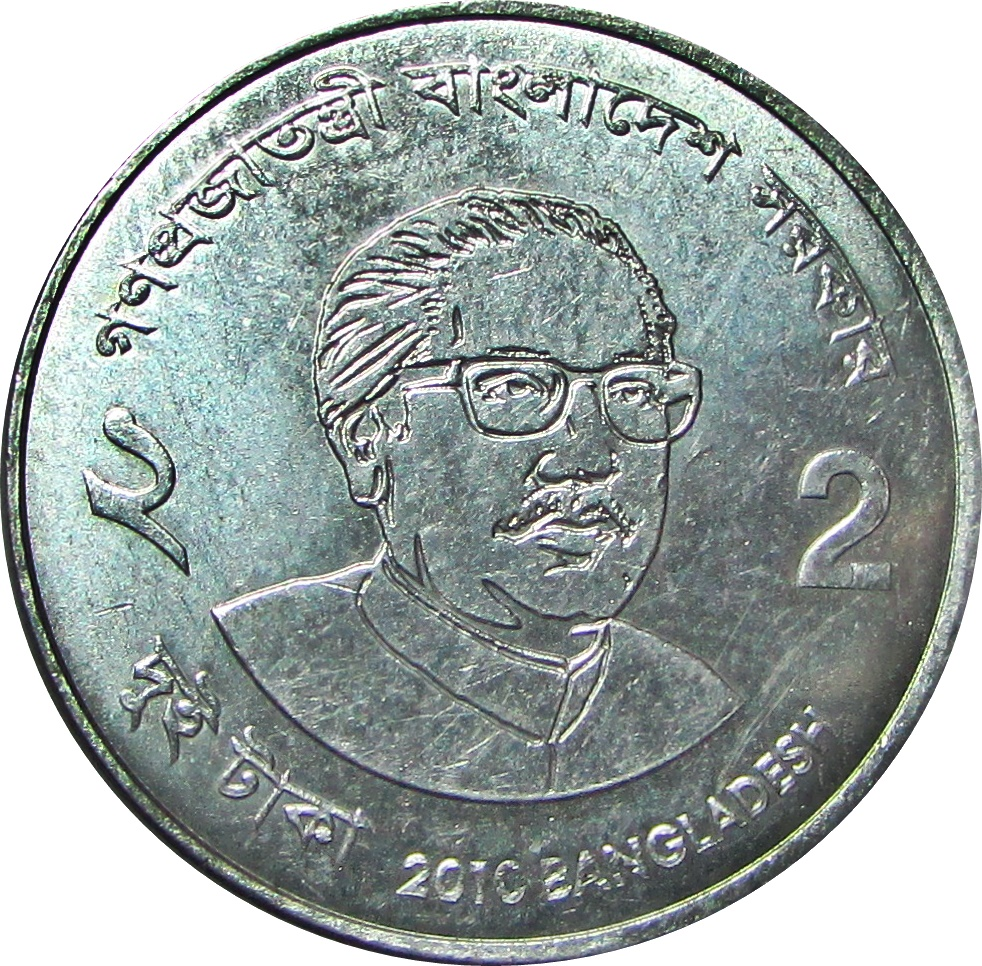5 taka coin: (1, 3, 982, 966)
